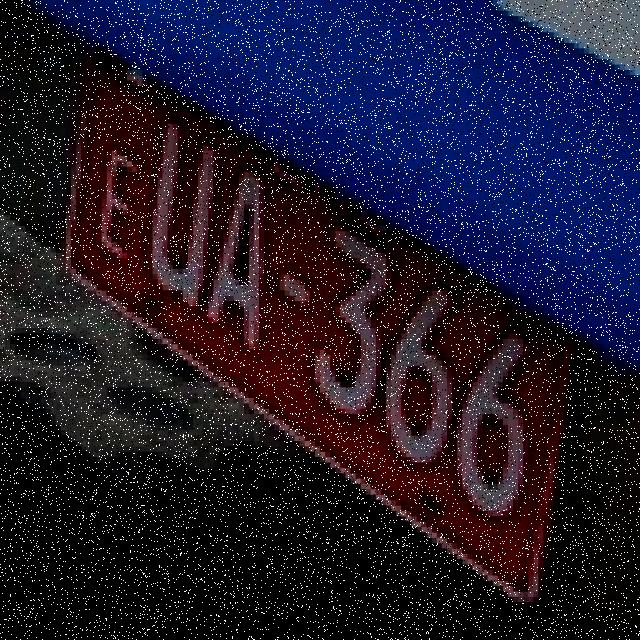licenseplate: (60, 38, 590, 608)
